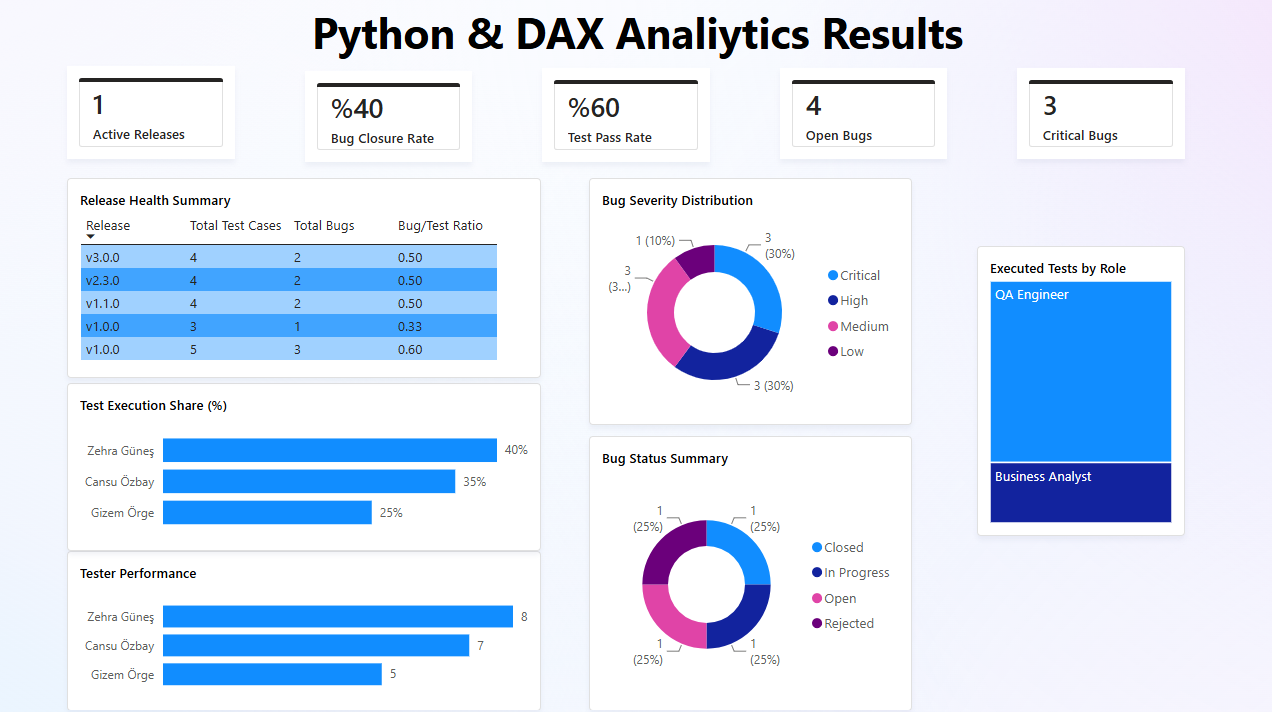

What the dashboard file says about the page in this screenshot:
{"tool":"powerbi","page":{"name":"Python Analytics Results","canvas":[1280,720],"ordinal":1},"visuals":[{"type":"barChart","title":"Tester Performance ","fields":{"Category":["4.tester_performance.Tester"],"Y":["Sum(4.tester_performance.Executed Tests)"]},"box":[70,552.5,473.8,160],"z":0},{"type":"textbox","box":[232.5,0,815,70],"z":1000},{"type":"clusteredBarChart","title":"Test Execution Share (%)","fields":{"Category":["4.tester_performance.Tester"],"Y":["Sum(4.tester_performance.Share (%))"]},"box":[70,385,473.8,167.5],"z":2000},{"type":"donutChart","title":"Bug Status Summary","fields":{"Category":["2.bug_status_summary.status"],"Y":["CountNonNull(2.bug_status_summary.Bug Count)"]},"box":[592,438,323,275],"z":3000},{"type":"tableEx","title":"Release Health Summary","fields":{"Values":["3.release_health.Release","3.release_health.Total Test Cases","3.release_health.Total Bugs","3.release_health.Bug per Test"]},"box":[70,180,473.8,200],"z":4000},{"type":"cardVisual","fields":{"Data":["Table.Active Releases"]},"box":[70,67.5,167.5,93.8],"z":5000},{"type":"cardVisual","fields":{"Data":["Table.Bug Closure Rate"]},"box":[307.5,72.5,167.5,91.2],"z":6000},{"type":"cardVisual","fields":{"Data":["Table.Critical Bugs"]},"box":[1020,70,167.5,91.2],"z":7000},{"type":"cardVisual","fields":{"Data":["Table.Open Bugs"]},"box":[782.5,70,167.5,91.2],"z":8000},{"type":"cardVisual","fields":{"Data":["Table.Test Pass Rate"]},"box":[545,70,167.5,93.8],"z":9000},{"type":"donutChart","title":"Bug Severity Distribution","fields":{"Y":["Sum(1.bug_severity_summary.Bug Count)"],"Category":["1.bug_severity_summary.severity"]},"box":[592,180,323,247],"z":10000},{"type":"treemap","title":"Executed Tests by Role","fields":{"Group":["4.tester_performance.Role"],"Values":["Sum(4.tester_performance.Executed Tests)"]},"box":[980,247.5,207.5,290],"z":11000}]}

Visuals, with their boxes in screenshot pixels (x1, y1, x2, y2), scaled from the page's 1280x720 canvas onto the 1272x712 screenshot:
"Tester Performance " barChart: box(70, 546, 540, 705)
textbox: box(231, 0, 1041, 69)
"Test Execution Share (%)" clusteredBarChart: box(70, 381, 540, 546)
"Bug Status Summary" donutChart: box(588, 433, 909, 705)
"Release Health Summary" tableEx: box(70, 178, 540, 376)
cardVisual - Table.Active Releases: box(70, 67, 236, 160)
cardVisual - Table.Bug Closure Rate: box(306, 72, 472, 162)
cardVisual - Table.Critical Bugs: box(1014, 69, 1180, 159)
cardVisual - Table.Open Bugs: box(778, 69, 944, 159)
cardVisual - Table.Test Pass Rate: box(542, 69, 708, 162)
"Bug Severity Distribution" donutChart: box(588, 178, 909, 422)
"Executed Tests by Role" treemap: box(974, 245, 1180, 532)
